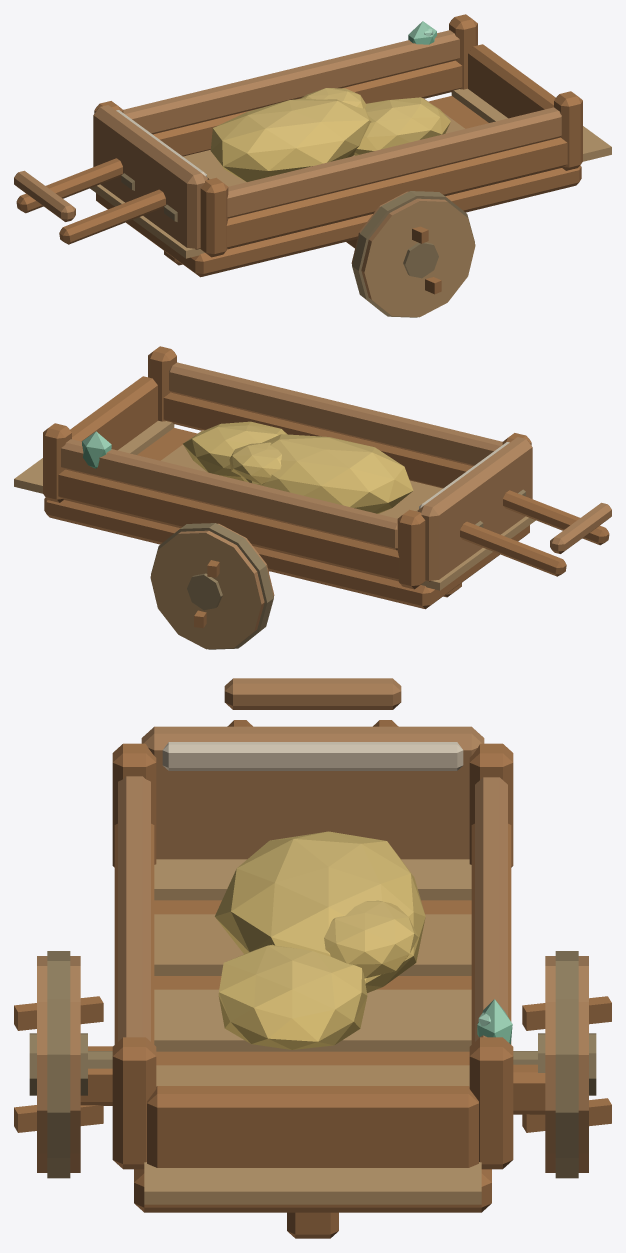
File: ranch_wagon.fbx
3 views of the same model, one above another, from view 1: azimuth 30°, elevation 25°; view 2: azimuth 150°, elevation 25°; view 3: azimuth 270°, elevation 25° (orthographic). The views are drawn at different scales.
Visible parts, largest first — view 1: ranch_wagon; view 2: ranch_wagon; view 3: ranch_wagon.
Part boxes in pixels (<box>): ranch_wagon: <box>14,14,611,317</box>; ranch_wagon: <box>14,346,611,649</box>; ranch_wagon: <box>14,678,611,1238</box>.
Size of the model in its own units: 9.91 by 3.01 by 5.76.
